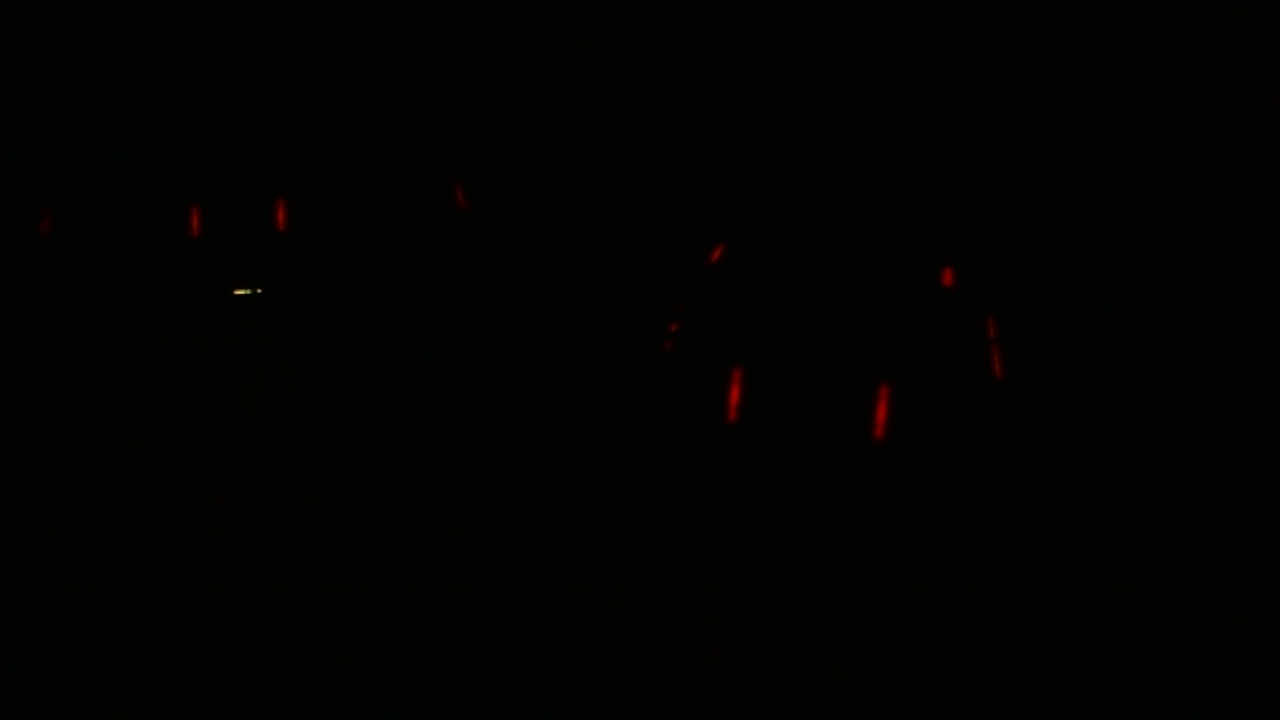pair1: (173, 190, 300, 248)
pair2: (704, 356, 904, 455)
